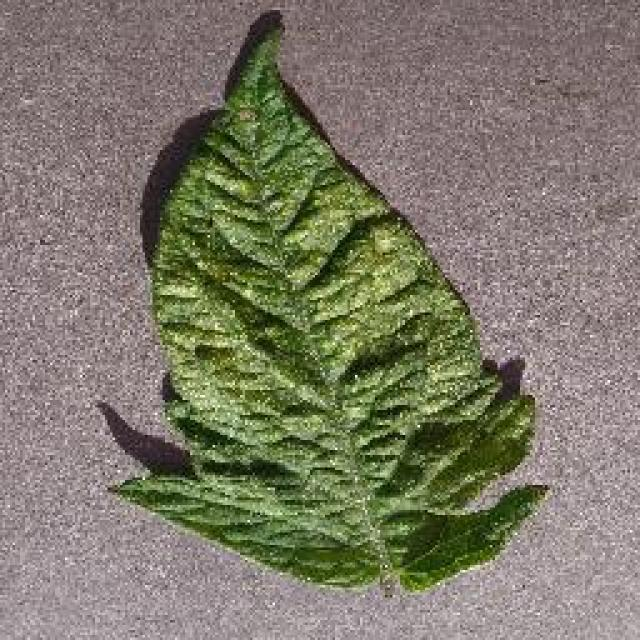Tomato spider mites leaf: (110, 18, 552, 587)
